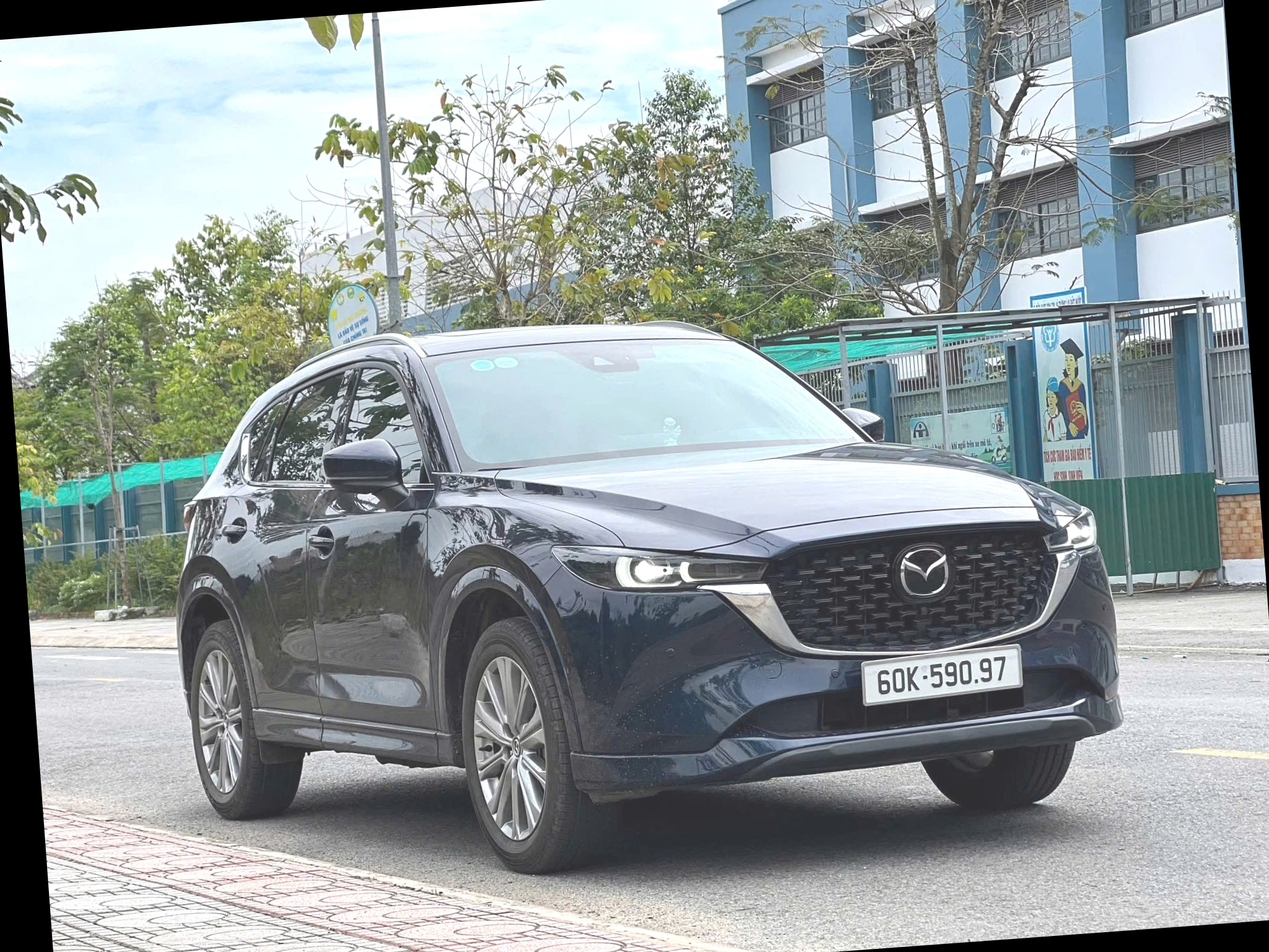Bien-so: (853, 663, 1021, 719)
